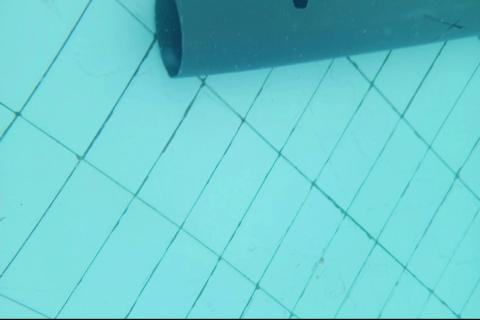kebocoran: (292, 0, 308, 8)
keretakan: (422, 13, 464, 39)
